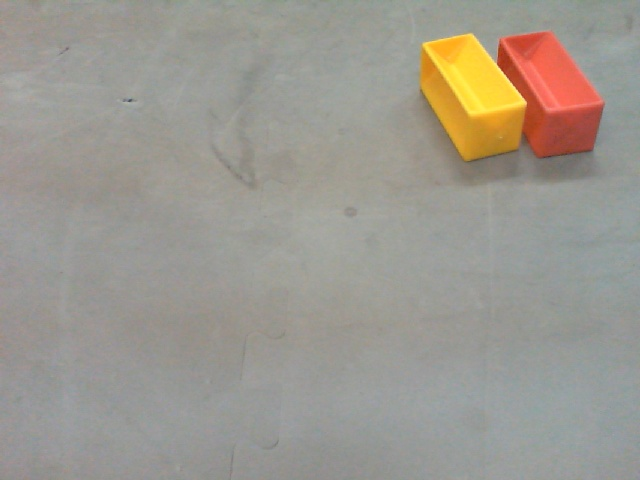RedSample: (491, 30, 608, 159)
YellowSample: (422, 33, 524, 164)
